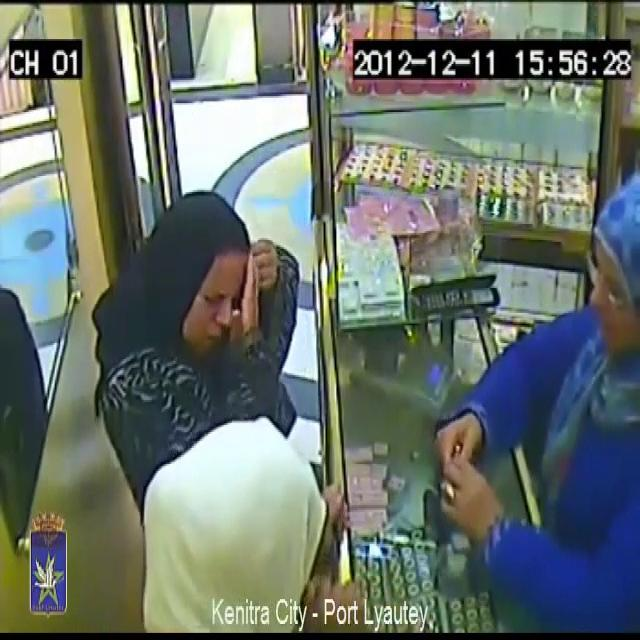Product: (444, 438, 469, 494)
normal: (136, 364, 354, 640), (136, 168, 253, 386)
shoplifting: (429, 162, 640, 627)
